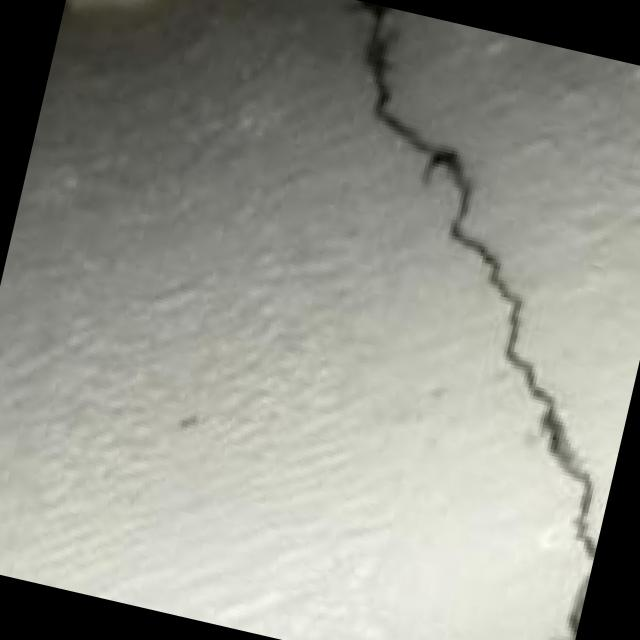crack: (206, 1, 640, 640)
